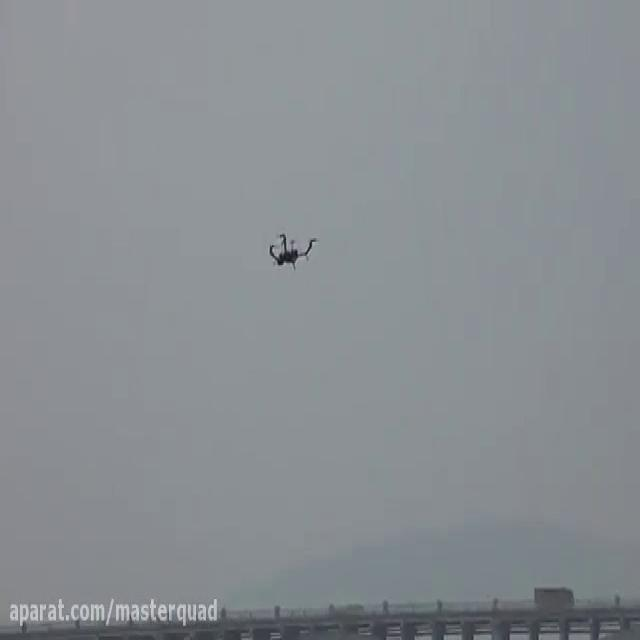drone: (265, 228, 321, 276)
